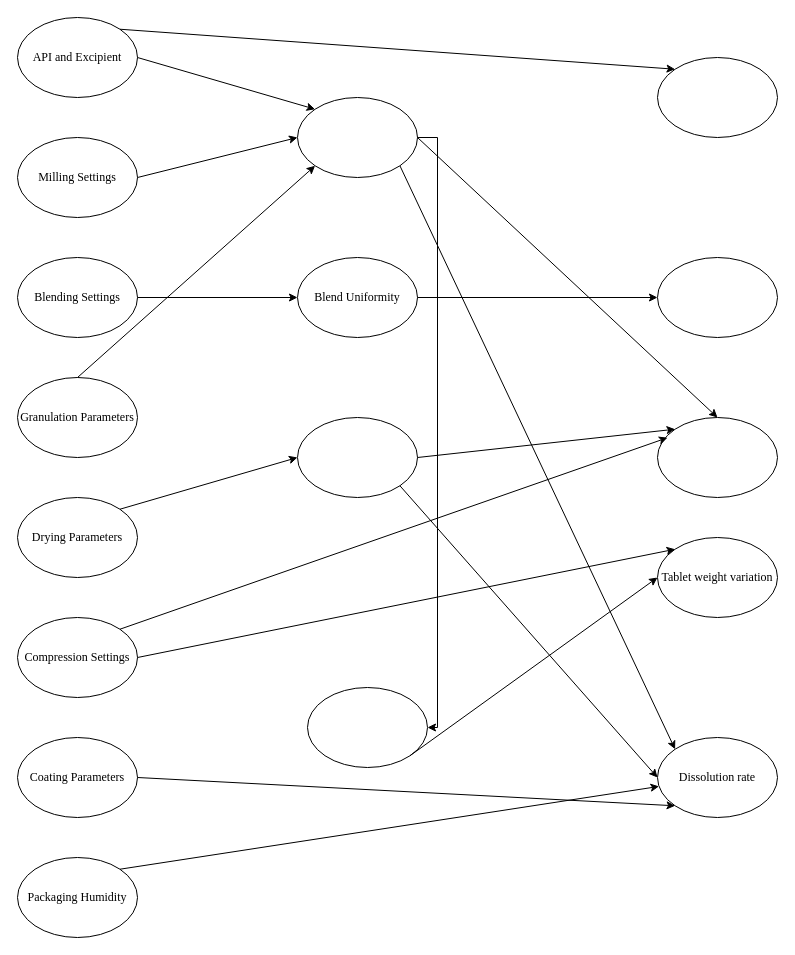
This 795x955 diagram has some shape labels left out. Here are the shapes that lost their labels. From the top down, the centre of each, then its label:
pixel 717 97: Assay
pixel 357 137: Granule Size
pixel 717 297: Content Uniformity
pixel 357 457: Moisture Content (Intermediate
pixel 717 457: Tablet Hardness
pixel 367 727: Powder floability
